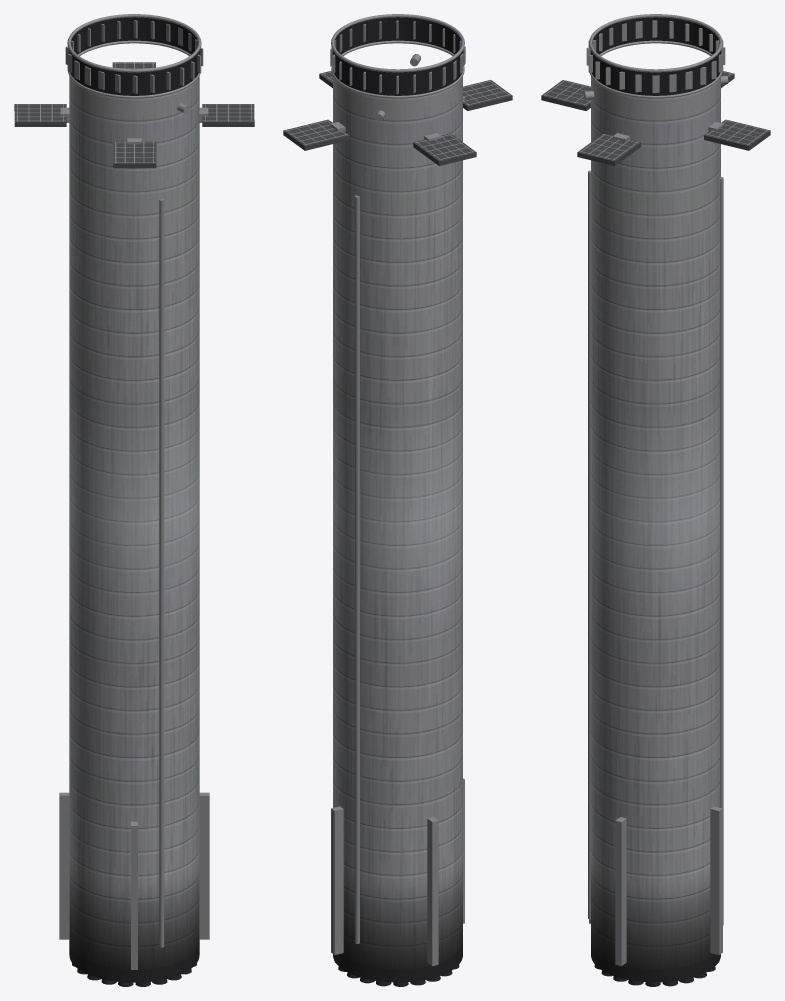
The model's file is EA02_super_heavy.glb.
The picture shows the model from 3 angles, left to right: view 1: azimuth 30°, elevation 25°; view 2: azimuth 150°, elevation 25°; view 3: azimuth 270°, elevation 25°; orthographic projection.
Parts seen in each view (by area): view 1: tank_section, hot_stage_ring, raceway, chine (×3), fin_frame (×3), engine_skirt, ring_top, grid_fin (×2), ring_base; view 2: tank_section, hot_stage_ring, raceway, chine (×2), fin_frame (×3), engine_skirt, ring_top, ring_base; view 3: tank_section, raceway (×2), hot_stage_ring, chine (×2), fin_frame (×3), engine_skirt, ring_top, ring_base.
Boxes of the visible parts, bbox=[...] form: tank_section: bbox=[69, 76, 199, 969]; hot_stage_ring: bbox=[69, 17, 199, 95]; raceway: bbox=[159, 199, 164, 947]; chine (×3): bbox=[59, 792, 209, 969]; fin_frame (×3): bbox=[14, 104, 254, 168]; engine_skirt: bbox=[69, 943, 199, 982]; ring_top: bbox=[67, 14, 201, 72]; grid_fin (×2): bbox=[15, 104, 253, 121]; ring_base: bbox=[68, 40, 200, 98]; tank_section: bbox=[333, 76, 462, 969]; hot_stage_ring: bbox=[332, 17, 463, 95]; raceway: bbox=[355, 195, 359, 943]; chine (×2): bbox=[331, 806, 438, 966]; fin_frame (×3): bbox=[283, 80, 512, 165]; engine_skirt: bbox=[333, 944, 462, 982]; ring_top: bbox=[331, 14, 464, 72]; ring_base: bbox=[331, 40, 464, 98]; tank_section: bbox=[591, 76, 720, 969]; raceway (×2): bbox=[588, 170, 723, 925]; hot_stage_ring: bbox=[590, 17, 721, 95]; chine (×2): bbox=[615, 806, 722, 966]; fin_frame (×3): bbox=[541, 80, 770, 165]; engine_skirt: bbox=[591, 944, 720, 982]; ring_top: bbox=[589, 14, 722, 72]; ring_base: bbox=[590, 40, 722, 98].
Bounding box in the file's own units: 15.88 × 70.11 × 15.88.
4 materials, 1 textured.
